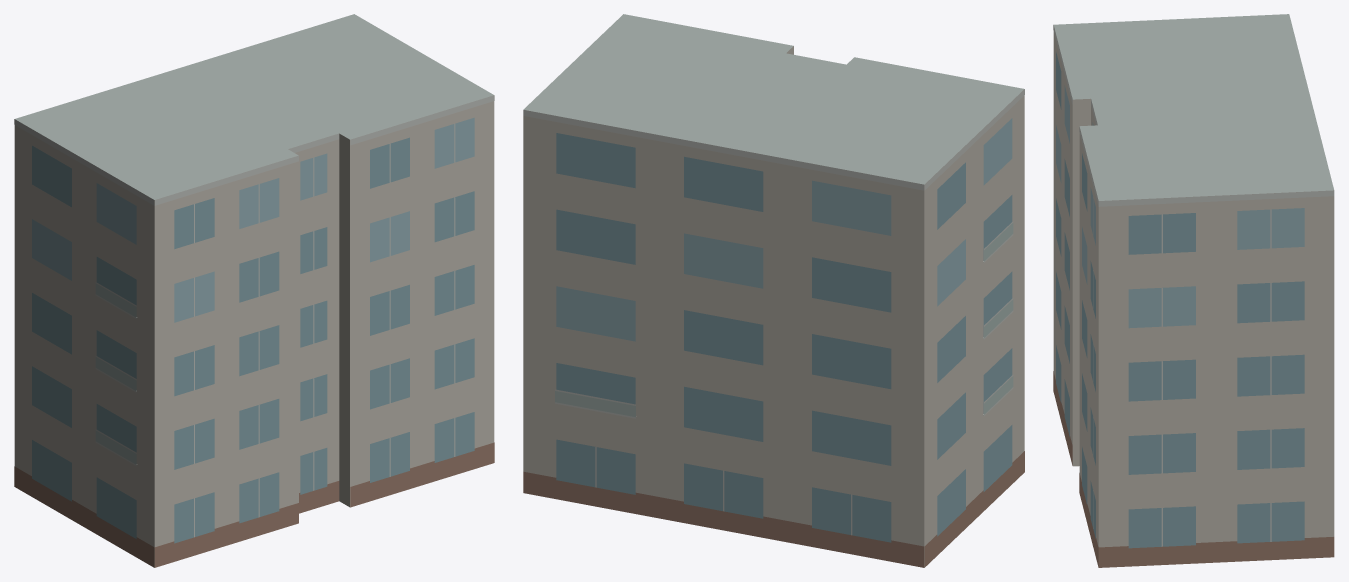
Rendered from survey-upis-32627907.glb.
3 renders of one model, left to right at view 1: azimuth 30°, elevation 25°; view 2: azimuth 150°, elevation 25°; view 3: azimuth 270°, elevation 25°, orthographic. The views are drawn at different scales.
Parts seen in each view (by area): view 1: survey-upis-32627907.tmp; view 2: survey-upis-32627907.tmp; view 3: survey-upis-32627907.tmp.
Part boxes in pixels (box(x1,y1,x2,y2)): survey-upis-32627907.tmp: box(14, 14, 494, 567); survey-upis-32627907.tmp: box(523, 14, 1024, 567); survey-upis-32627907.tmp: box(1053, 14, 1334, 567).
Bounding box in the file's own units: 16.85 × 15.4 × 10.69.
